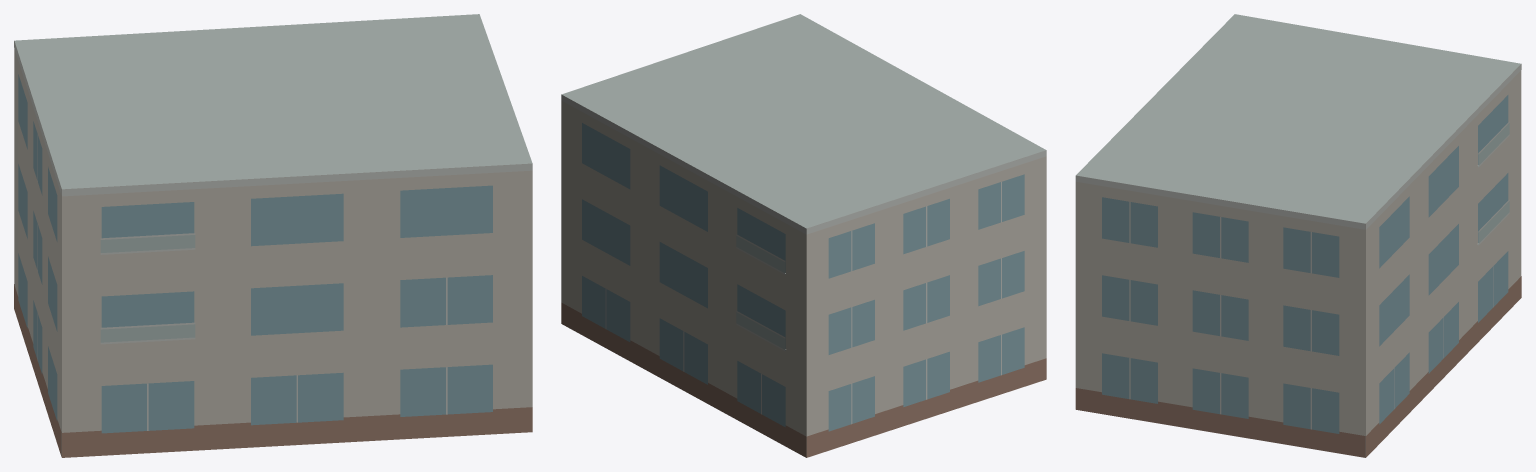
File: survey-upis-32898388.glb
3 views of the same model, side by side, from view 1: azimuth 30°, elevation 25°; view 2: azimuth 150°, elevation 25°; view 3: azimuth 270°, elevation 25° (orthographic). The views are drawn at different scales.
Parts seen in each view (by area): view 1: survey-upis-32898388.tmp; view 2: survey-upis-32898388.tmp; view 3: survey-upis-32898388.tmp.
Part boxes in pixels (x1,y1,x2,y2): survey-upis-32898388.tmp: (14, 14, 532, 457); survey-upis-32898388.tmp: (561, 14, 1046, 457); survey-upis-32898388.tmp: (1075, 14, 1521, 457).
Size of the model in its own units: 17.58 by 9.15 by 15.79.
